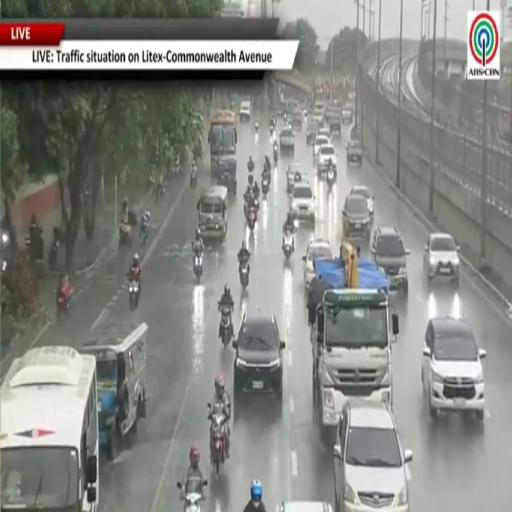bus: (0, 346, 98, 511), (209, 110, 237, 180)
car: (334, 399, 412, 511), (422, 317, 486, 421), (233, 309, 285, 399), (372, 227, 409, 294), (424, 233, 459, 285), (303, 239, 333, 287), (342, 195, 371, 241), (289, 181, 315, 222), (350, 185, 374, 217), (317, 144, 336, 177), (287, 163, 305, 194), (276, 502, 332, 511), (313, 135, 330, 161), (326, 106, 341, 134), (347, 139, 362, 166), (280, 128, 294, 154), (307, 120, 318, 145), (313, 102, 326, 123), (291, 109, 302, 131), (240, 101, 251, 122), (312, 108, 324, 124), (342, 107, 353, 124), (318, 125, 330, 140), (276, 103, 287, 117)
jeepney: (80, 323, 148, 459), (197, 186, 227, 241)
motorcycle: (209, 404, 226, 473), (25, 227, 44, 261), (219, 306, 233, 347), (48, 227, 61, 271), (57, 282, 73, 315), (183, 492, 202, 511), (238, 259, 250, 289), (48, 239, 59, 271), (129, 279, 139, 311), (119, 223, 132, 247), (283, 231, 293, 261), (193, 252, 203, 280), (247, 205, 257, 231), (252, 182, 259, 209), (140, 223, 148, 246), (190, 165, 197, 190), (327, 168, 334, 190), (262, 175, 269, 196), (156, 183, 165, 199), (147, 175, 155, 190), (273, 146, 278, 165), (248, 163, 254, 174), (255, 120, 258, 133)
truck: (309, 242, 398, 439), (209, 110, 237, 188)
